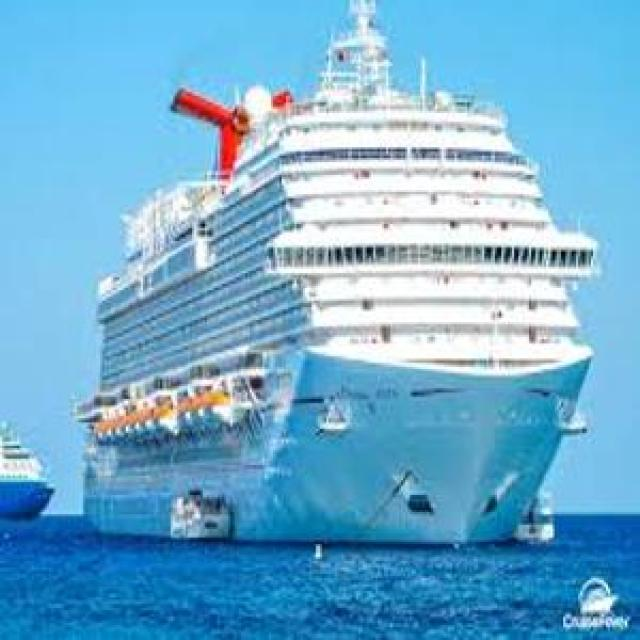passenger ship: (67, 70, 592, 546), (0, 418, 61, 517)
